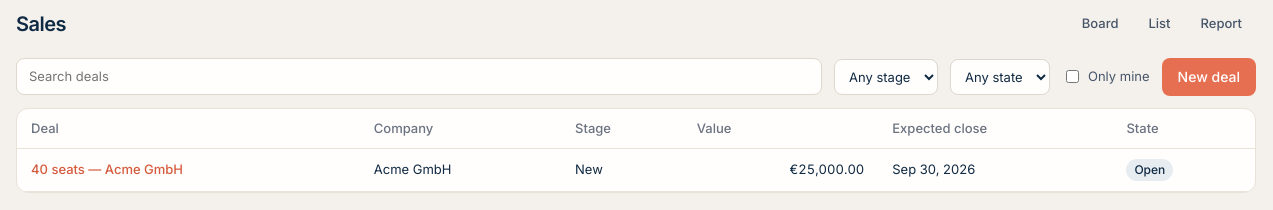
Test: the list › the search box says it only matches what is already on screen
Expected: the button "40 seats — Acme GmbH" is shown, [31,160,183,180]
Type "nothing like this" into the search field labelled "Search deals".
click(419, 77); type("nothing like this")  # box [16,58,822,95]
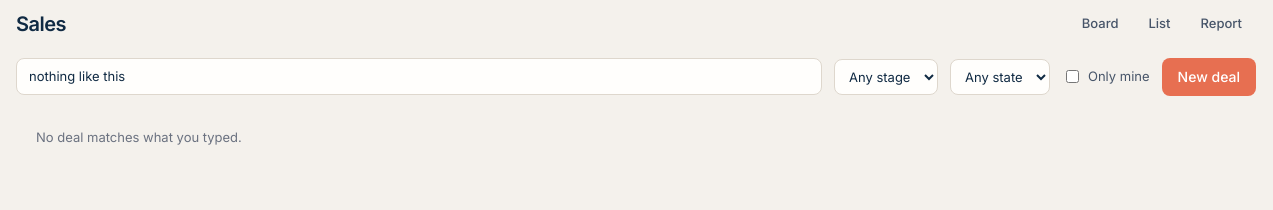
Expected: the text "No deal matches what you typed." is shown, [36,128,242,144]
